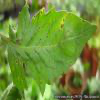Tomato leaf bacterial spot: (7, 6, 97, 92)
